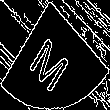M_NE: (31, 21, 79, 89)
